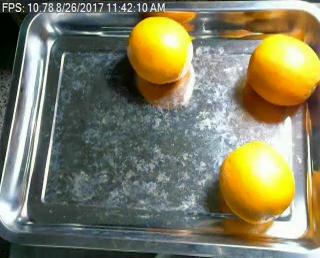Orange: (220, 140, 295, 223), (246, 34, 318, 106), (127, 16, 193, 83)
